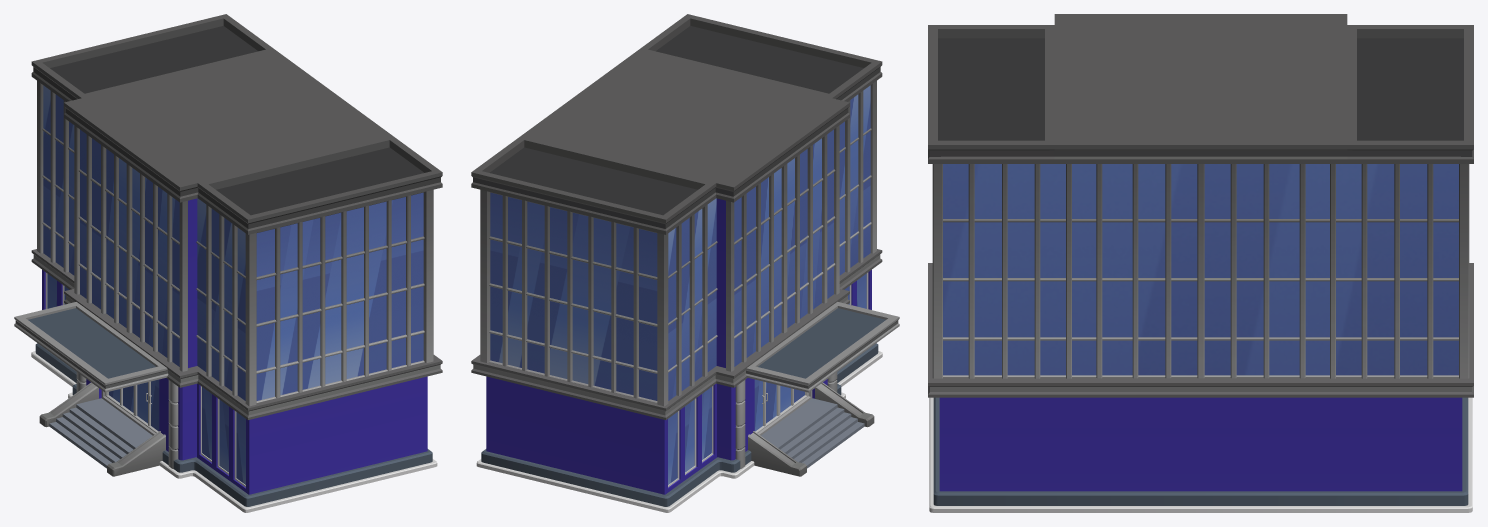
File: Building_17_1_CC.fbx
3 renders of one model, left to right at view 1: azimuth 30°, elevation 25°; view 2: azimuth 150°, elevation 25°; view 3: azimuth 270°, elevation 25°, orthographic. The views are drawn at different scales.
Parts seen in each view (by area): view 1: Building_17_1_CC; view 2: Building_17_1_CC; view 3: Building_17_1_CC.
Boxes of the visible parts, x1=… form: Building_17_1_CC: x1=14, y1=14, x2=442, y2=512; Building_17_1_CC: x1=471, y1=14, x2=899, y2=512; Building_17_1_CC: x1=928, y1=14, x2=1473, y2=512.
Bounding box in the file's own units: 857 × 875 × 1168.
